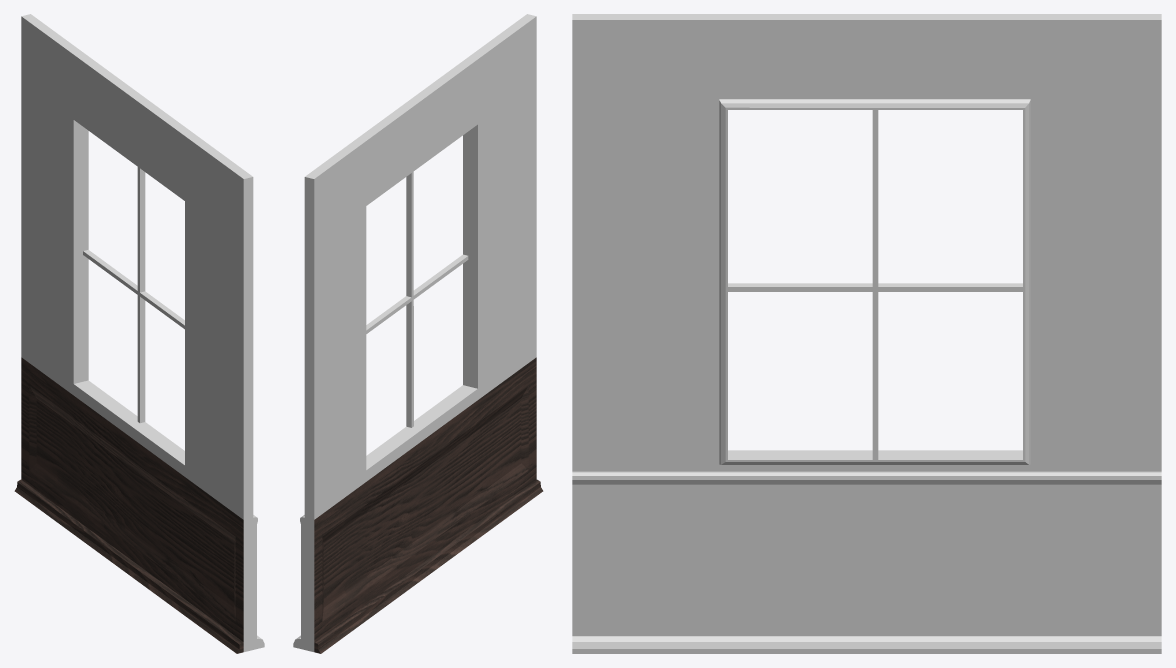
File: Window Wall.fbx
The picture shows the model from 3 angles, left to right: view 1: azimuth 30°, elevation 25°; view 2: azimuth 150°, elevation 25°; view 3: azimuth 270°, elevation 25°; orthographic projection. The views are drawn at different scales.
Parts seen in each view (by area): view 1: Window Wall; view 2: Window Wall; view 3: Window Wall.
Boxes of the visible parts, bbox=[...] form: Window Wall: bbox=[14, 14, 264, 653]; Window Wall: bbox=[293, 14, 543, 653]; Window Wall: bbox=[572, 14, 1161, 653].
Bounding box in the file's own units: 14.86 × 243 × 207.
